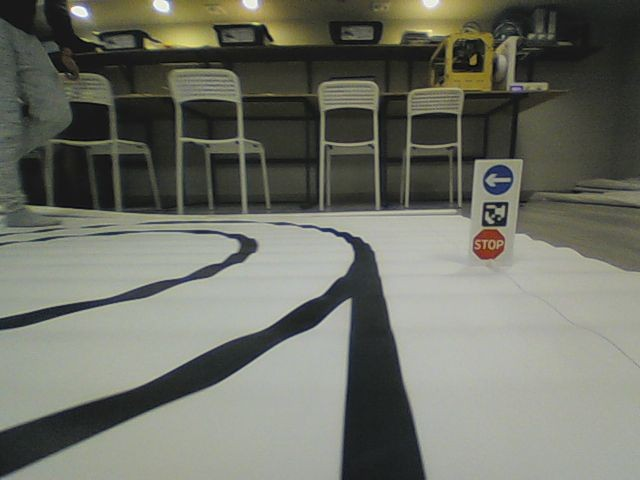Stop: (471, 228, 506, 260)
